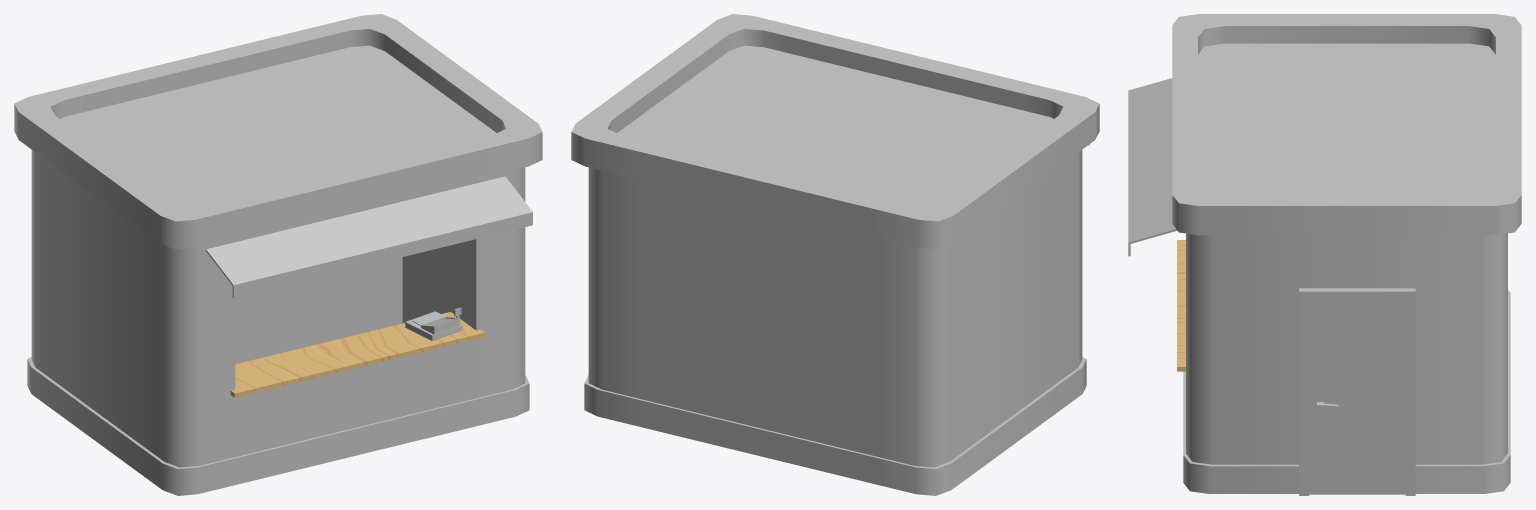
File: Small Market.FBX
3 views of the same model, side by side, from view 1: azimuth 30°, elevation 25°; view 2: azimuth 150°, elevation 25°; view 3: azimuth 270°, elevation 25° (orthographic). The views are drawn at different scales.
Visible parts, largest first — view 1: Market_02; view 2: Market_02; view 3: Market_02.
Boxes of the visible parts, x1,y1,x2,y2 form: Market_02: (14,14,542,495); Market_02: (571,14,1099,495); Market_02: (1128,14,1521,495).
Size of the model in its own units: 1042 by 738 by 901.
